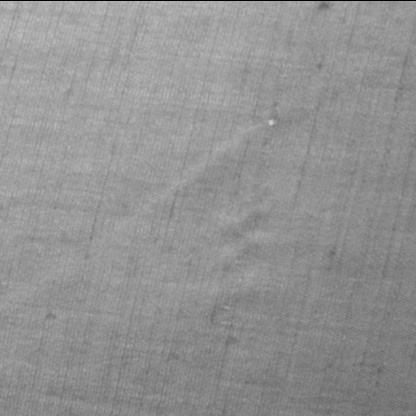hole: (264, 117, 276, 125)
